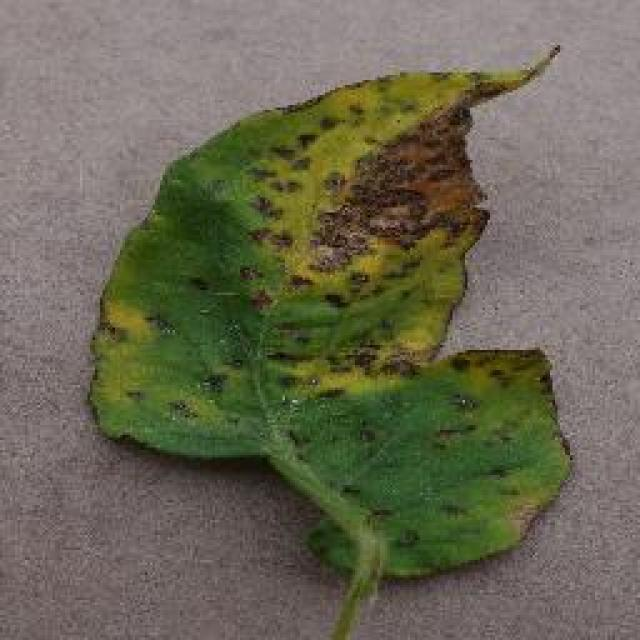Tomato bacterial spot leaf: (67, 34, 589, 594)
